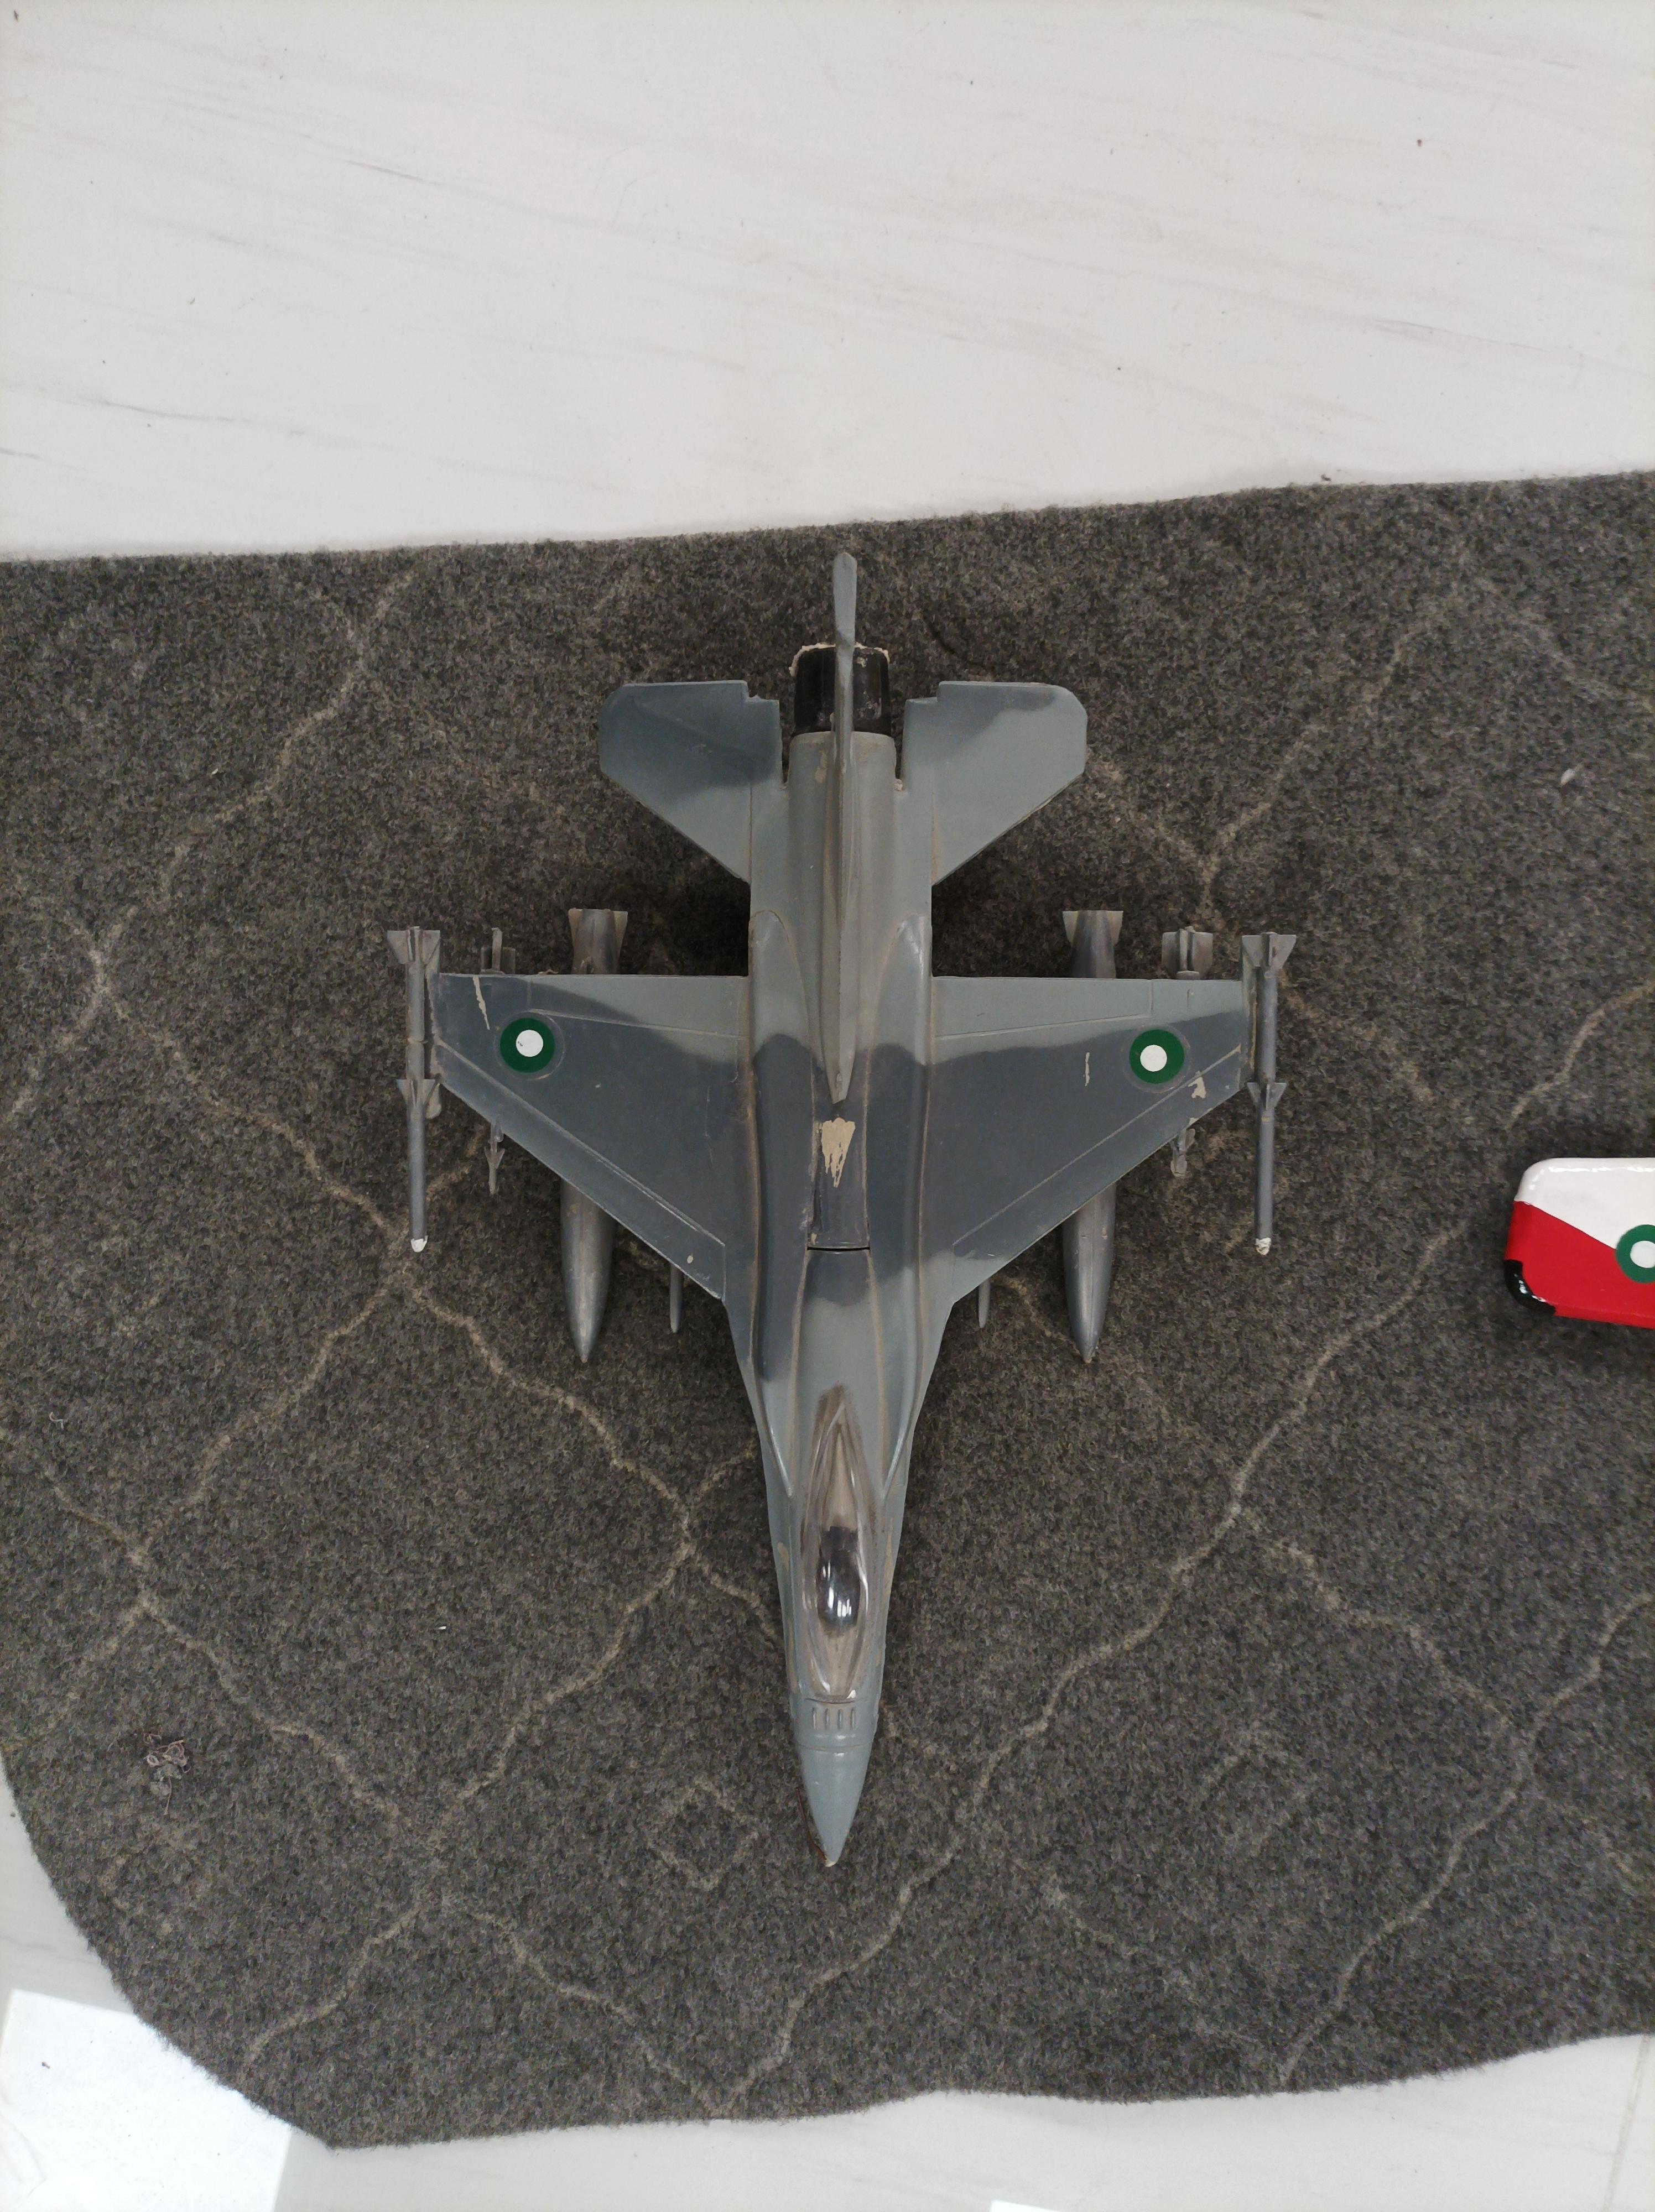Airplane: (365, 544, 1302, 1899)
